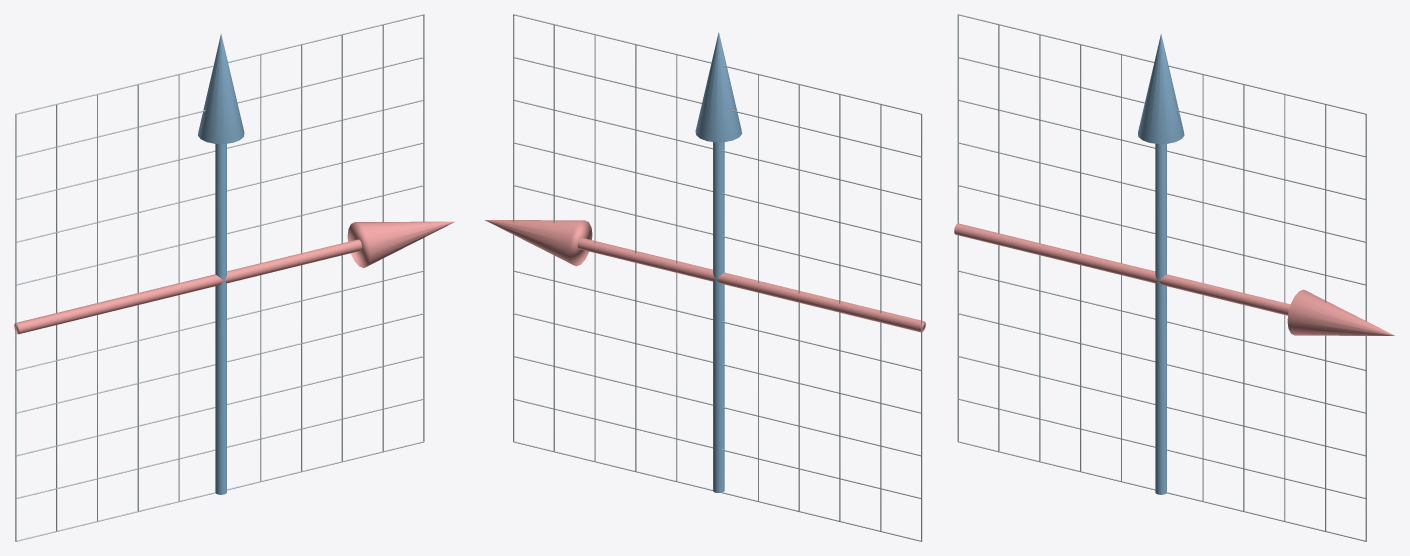
3 renders of one model, left to right at view 1: azimuth 30°, elevation 25°; view 2: azimuth 150°, elevation 25°; view 3: azimuth 330°, elevation 25°, orthographic.
Visible parts, largest first — view 1: x_axis_shaft, y_axis_shaft, y_axis_head, x_axis_head, vertical_-5, vertical_1, vertical_-4, vertical_2, vertical_-1, vertical_3, vertical_-2, vertical_5 (+11 smaller); view 2: x_axis_shaft, y_axis_shaft, y_axis_head, x_axis_head, vertical_-5, vertical_-3, vertical_-2, vertical_-4, vertical_2, vertical_3, vertical_1, vertical_5 (+11 smaller); view 3: x_axis_shaft, y_axis_shaft, y_axis_head, x_axis_head, vertical_-5, vertical_-4, vertical_1, vertical_-3, vertical_2, vertical_-2, vertical_3, vertical_5 (+11 smaller).
Boxes of the visible parts, bbox=[...] form: x_axis_shaft: bbox=[14, 239, 362, 334]; y_axis_shaft: bbox=[215, 143, 226, 494]; y_axis_head: bbox=[198, 33, 244, 143]; x_axis_head: bbox=[347, 221, 454, 267]; vertical_-5: bbox=[15, 114, 16, 541]; vertical_1: bbox=[260, 55, 261, 481]; vertical_-4: bbox=[56, 104, 57, 531]; vertical_2: bbox=[301, 45, 302, 471]; vertical_-1: bbox=[178, 75, 179, 501]; vertical_3: bbox=[341, 35, 342, 461]; vertical_-2: bbox=[137, 85, 138, 511]; vertical_5: bbox=[423, 14, 424, 441]; x_axis_shaft: bbox=[577, 237, 925, 332]; y_axis_shaft: bbox=[713, 142, 724, 492]; y_axis_head: bbox=[695, 32, 741, 142]; x_axis_head: bbox=[485, 220, 592, 266]; vertical_-5: bbox=[921, 114, 922, 541]; vertical_-3: bbox=[839, 94, 840, 521]; vertical_-2: bbox=[798, 85, 799, 511]; vertical_-4: bbox=[880, 104, 881, 531]; vertical_2: bbox=[635, 45, 636, 471]; vertical_3: bbox=[594, 35, 595, 461]; vertical_1: bbox=[676, 54, 677, 481]; vertical_5: bbox=[513, 14, 514, 441]; x_axis_shaft: bbox=[954, 223, 1290, 315]; y_axis_shaft: bbox=[1155, 143, 1166, 494]; y_axis_head: bbox=[1138, 33, 1184, 143]; x_axis_head: bbox=[1287, 289, 1394, 335]; vertical_-5: bbox=[957, 14, 958, 441]; vertical_-4: bbox=[998, 25, 999, 451]; vertical_1: bbox=[1202, 75, 1203, 501]; vertical_-3: bbox=[1039, 35, 1040, 461]; vertical_2: bbox=[1243, 84, 1244, 511]; vertical_-2: bbox=[1080, 44, 1081, 471]; vertical_3: bbox=[1284, 95, 1285, 521]; vertical_5: bbox=[1365, 114, 1366, 541].
Bounding box in the file's own units: 2.15 × 2.15 × 0.2.
